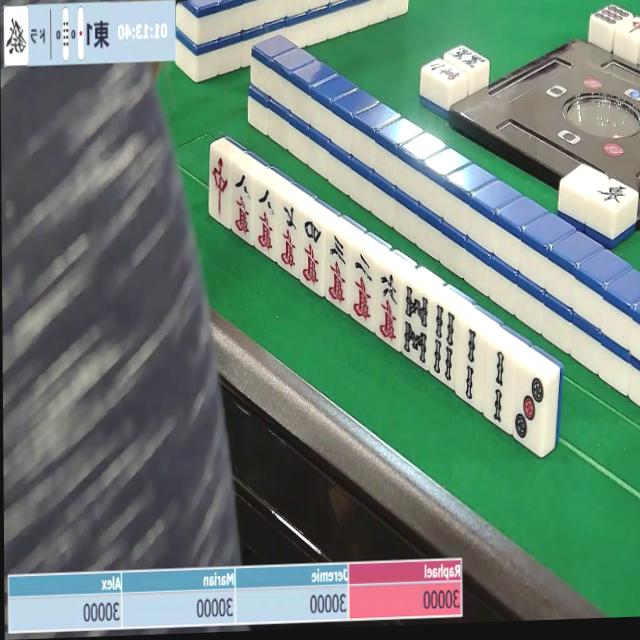fa: (3, 9, 26, 65)
m2: (347, 251, 376, 327)
m3: (325, 232, 351, 310)
m4: (296, 217, 324, 294)
m6: (372, 270, 401, 348)
m7: (274, 199, 300, 274)
m8: (253, 183, 279, 254), (231, 170, 254, 241)
s2: (483, 345, 513, 430), (455, 324, 482, 409)
s4: (427, 302, 457, 388)
s8: (400, 284, 431, 368)
t3: (512, 367, 546, 445)
zhong: (209, 151, 230, 225)
